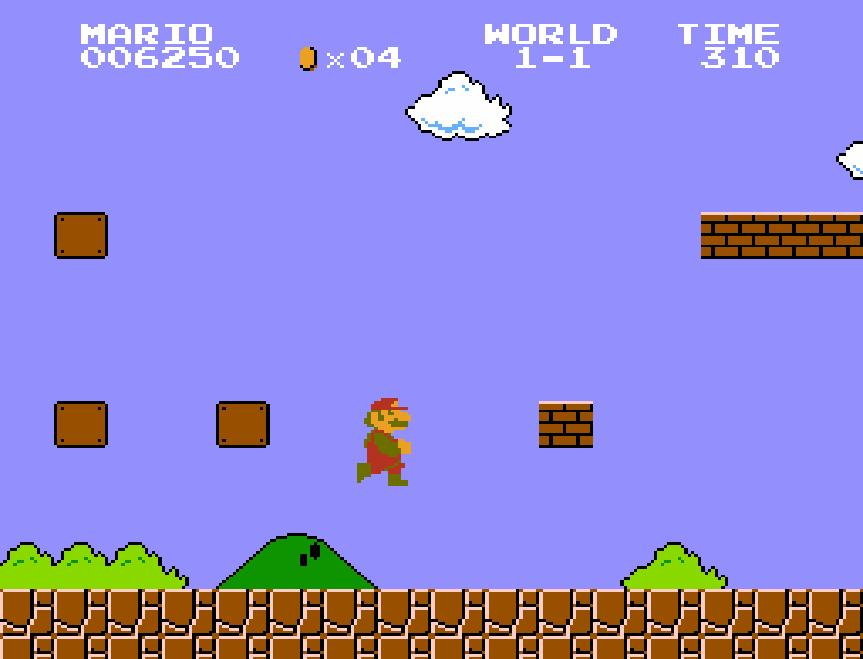big_mario: (355, 390, 413, 488)
